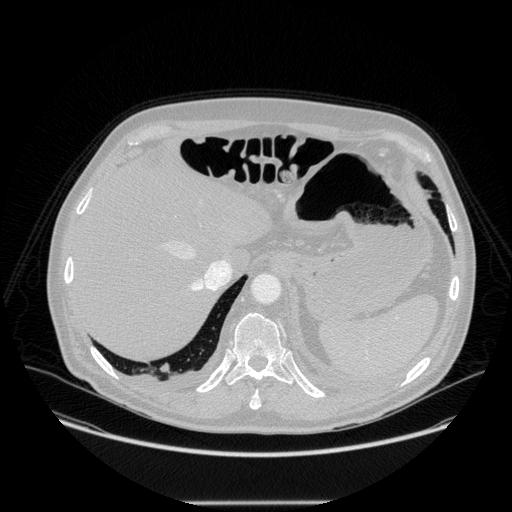nodule: (158, 361, 172, 375)
